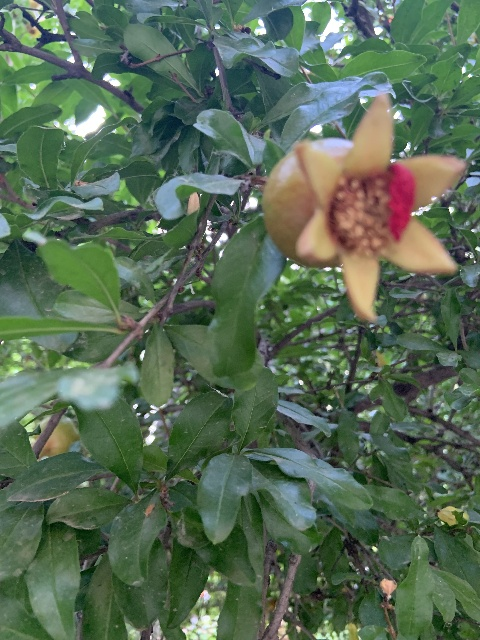early-fruit: (260, 95, 468, 324)
mid-growth: (34, 416, 80, 458)
